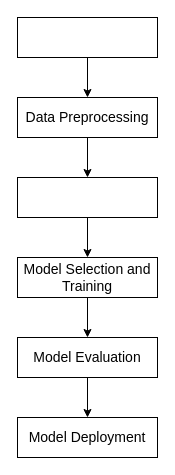
Image size: 175x475. Some labels were removed from this diagram. Each missing label, with the centre of its shape:
"Data Collection" belongs at point 87,37.
"Feature Engineering" belongs at point 87,197.
